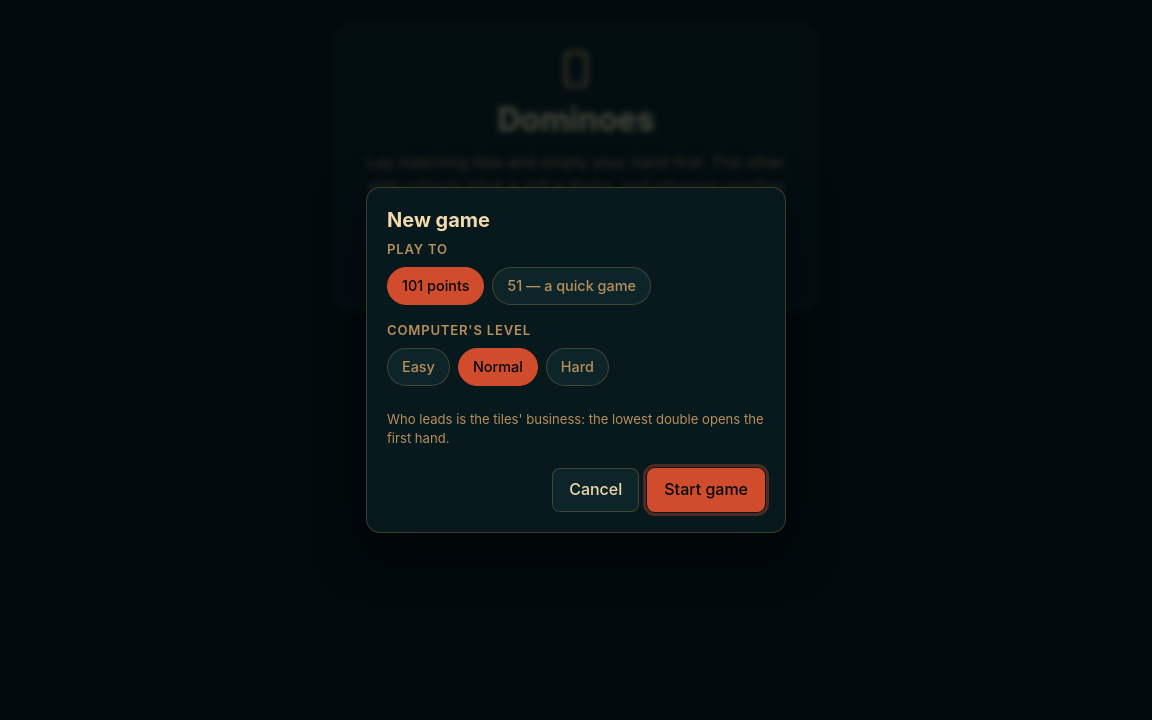
Test case: DominoesPage, against the computer › opens on the new-game dialog: how far to play and the level, no seat to pick
Expected: the element "Play to" is shown, top-left (387, 241), bottom-right (651, 305)
Expected: the element "Computer's level" is shown, top-left (387, 322), bottom-right (609, 386)
What coordinates should you click on to do the following:
click the button "51 — a quick game"
I would click on:
 (572, 286)
Its box is top-left (492, 267), bottom-right (651, 305).
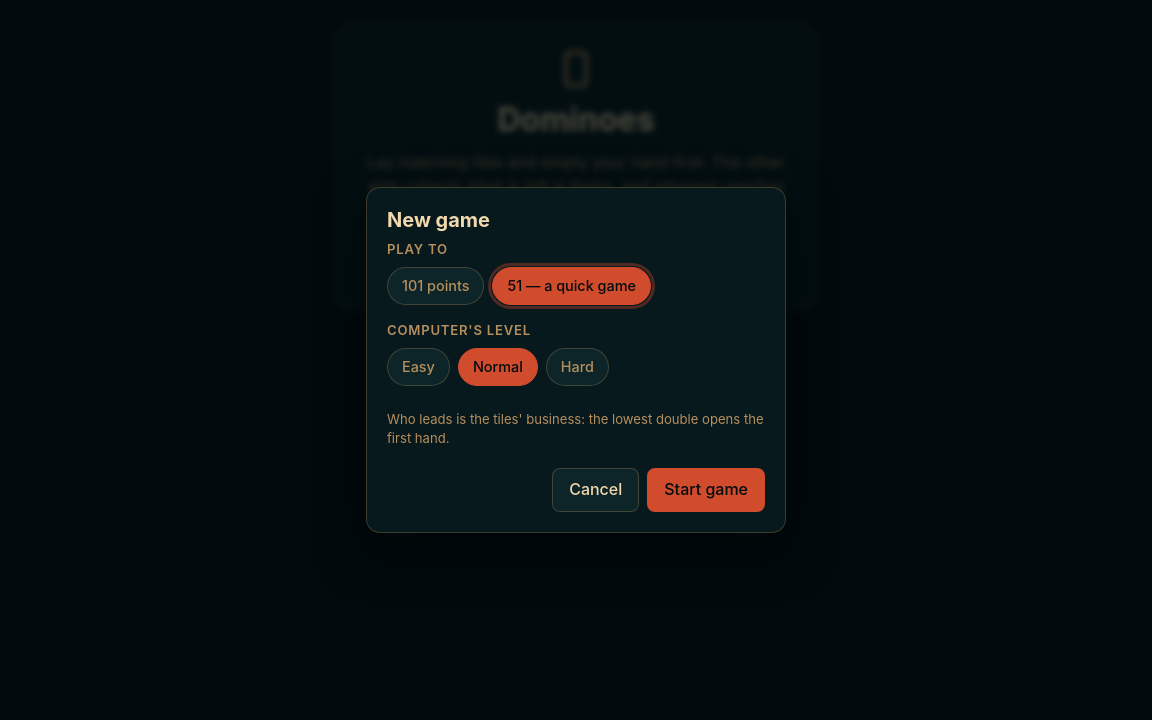
What coordinates should you click on to do the following:
click the button "Start game"
I would click on:
 (706, 490)
Its box is top-left (647, 468), bottom-right (765, 512).
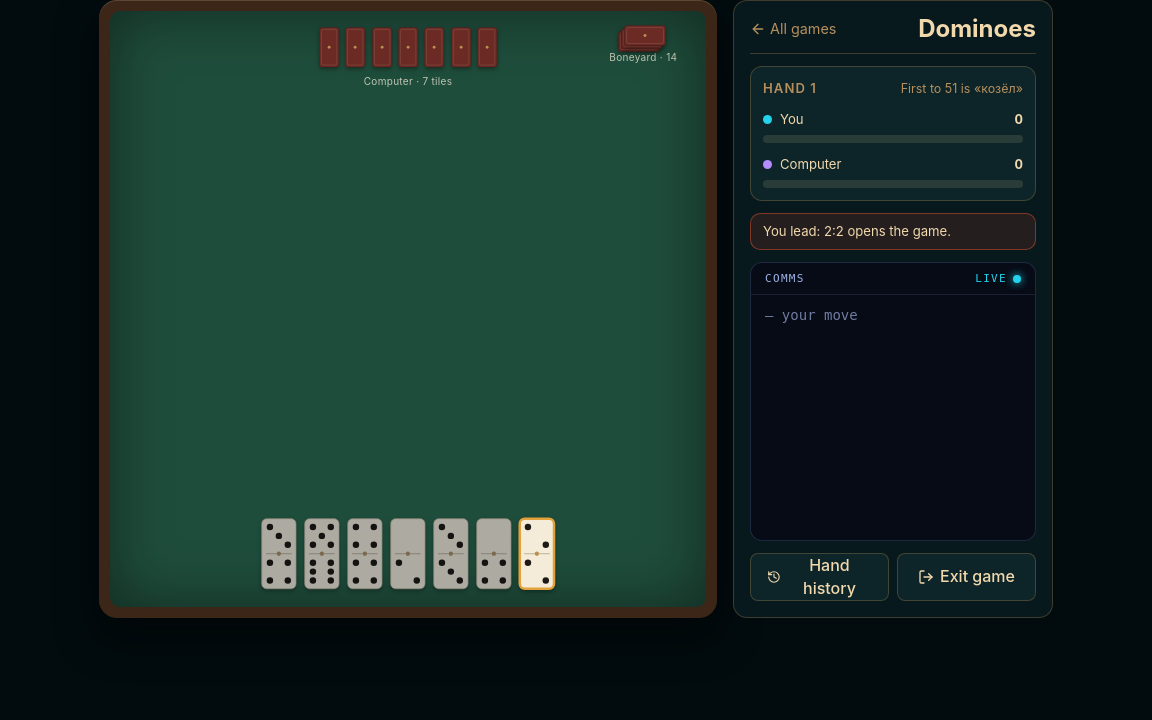
Expected: the element named "Dominoes table" is shown, top-left (99, 0), bottom-right (717, 618)
Expected: the text "First to 51 is «козёл»" is shown, top-left (901, 80), bottom-right (1023, 98)
Expected: the message reads "You lead: 2:2 opens the game.", top-left (763, 223), bottom-right (951, 239)
